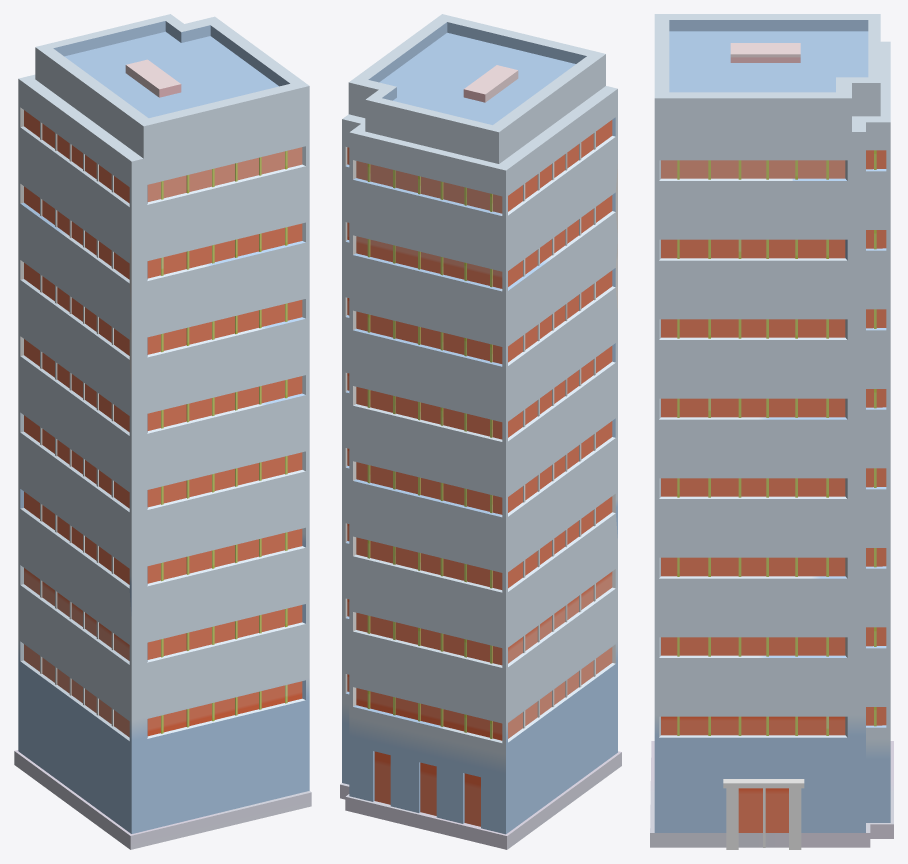
Rendered from BUD01.fbx.
3 views of the same model, side by side, from view 1: azimuth 30°, elevation 25°; view 2: azimuth 150°, elevation 25°; view 3: azimuth 270°, elevation 25° (orthographic). The views are drawn at different scales.
Visible parts, largest first — view 1: BUD01; view 2: BUD01; view 3: BUD01.
Boxes of the visible parts, x1=… form: BUD01: x1=14, y1=14, x2=311, y2=849; BUD01: x1=340, y1=14, x2=621, y2=849; BUD01: x1=650, y1=14, x2=893, y2=849.
Bounding box in the file's own units: 1.31 × 4.76 × 1.4.
